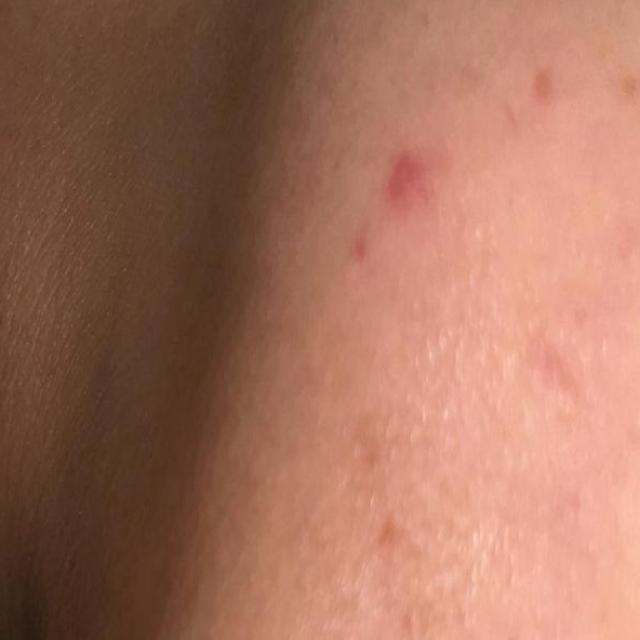papule: (367, 113, 446, 239)
